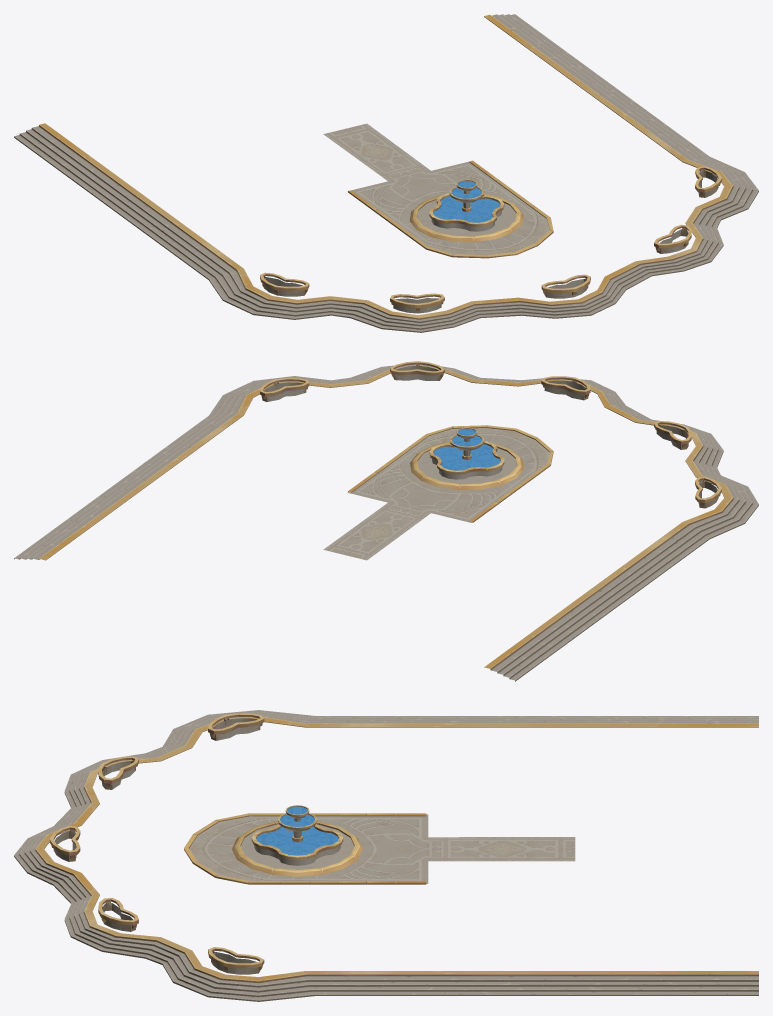
The model's file is zhucheng_wangchengdizuo_1.FBX.
3 renders of one model, top to bottom at view 1: azimuth 30°, elevation 25°; view 2: azimuth 150°, elevation 25°; view 3: azimuth 270°, elevation 25°, orthographic. The views are drawn at different scales.
Visible parts, largest first — view 1: zhucheng_wangchengdizuo_1; view 2: zhucheng_wangchengdizuo_1; view 3: zhucheng_wangchengdizuo_1.
Part boxes in pixels (x1,y1,x2,y2): zhucheng_wangchengdizuo_1: [14, 14, 758, 332]; zhucheng_wangchengdizuo_1: [14, 361, 758, 681]; zhucheng_wangchengdizuo_1: [14, 710, 758, 1001].
Size of the model in its own units: 4520 by 337 by 4900.
